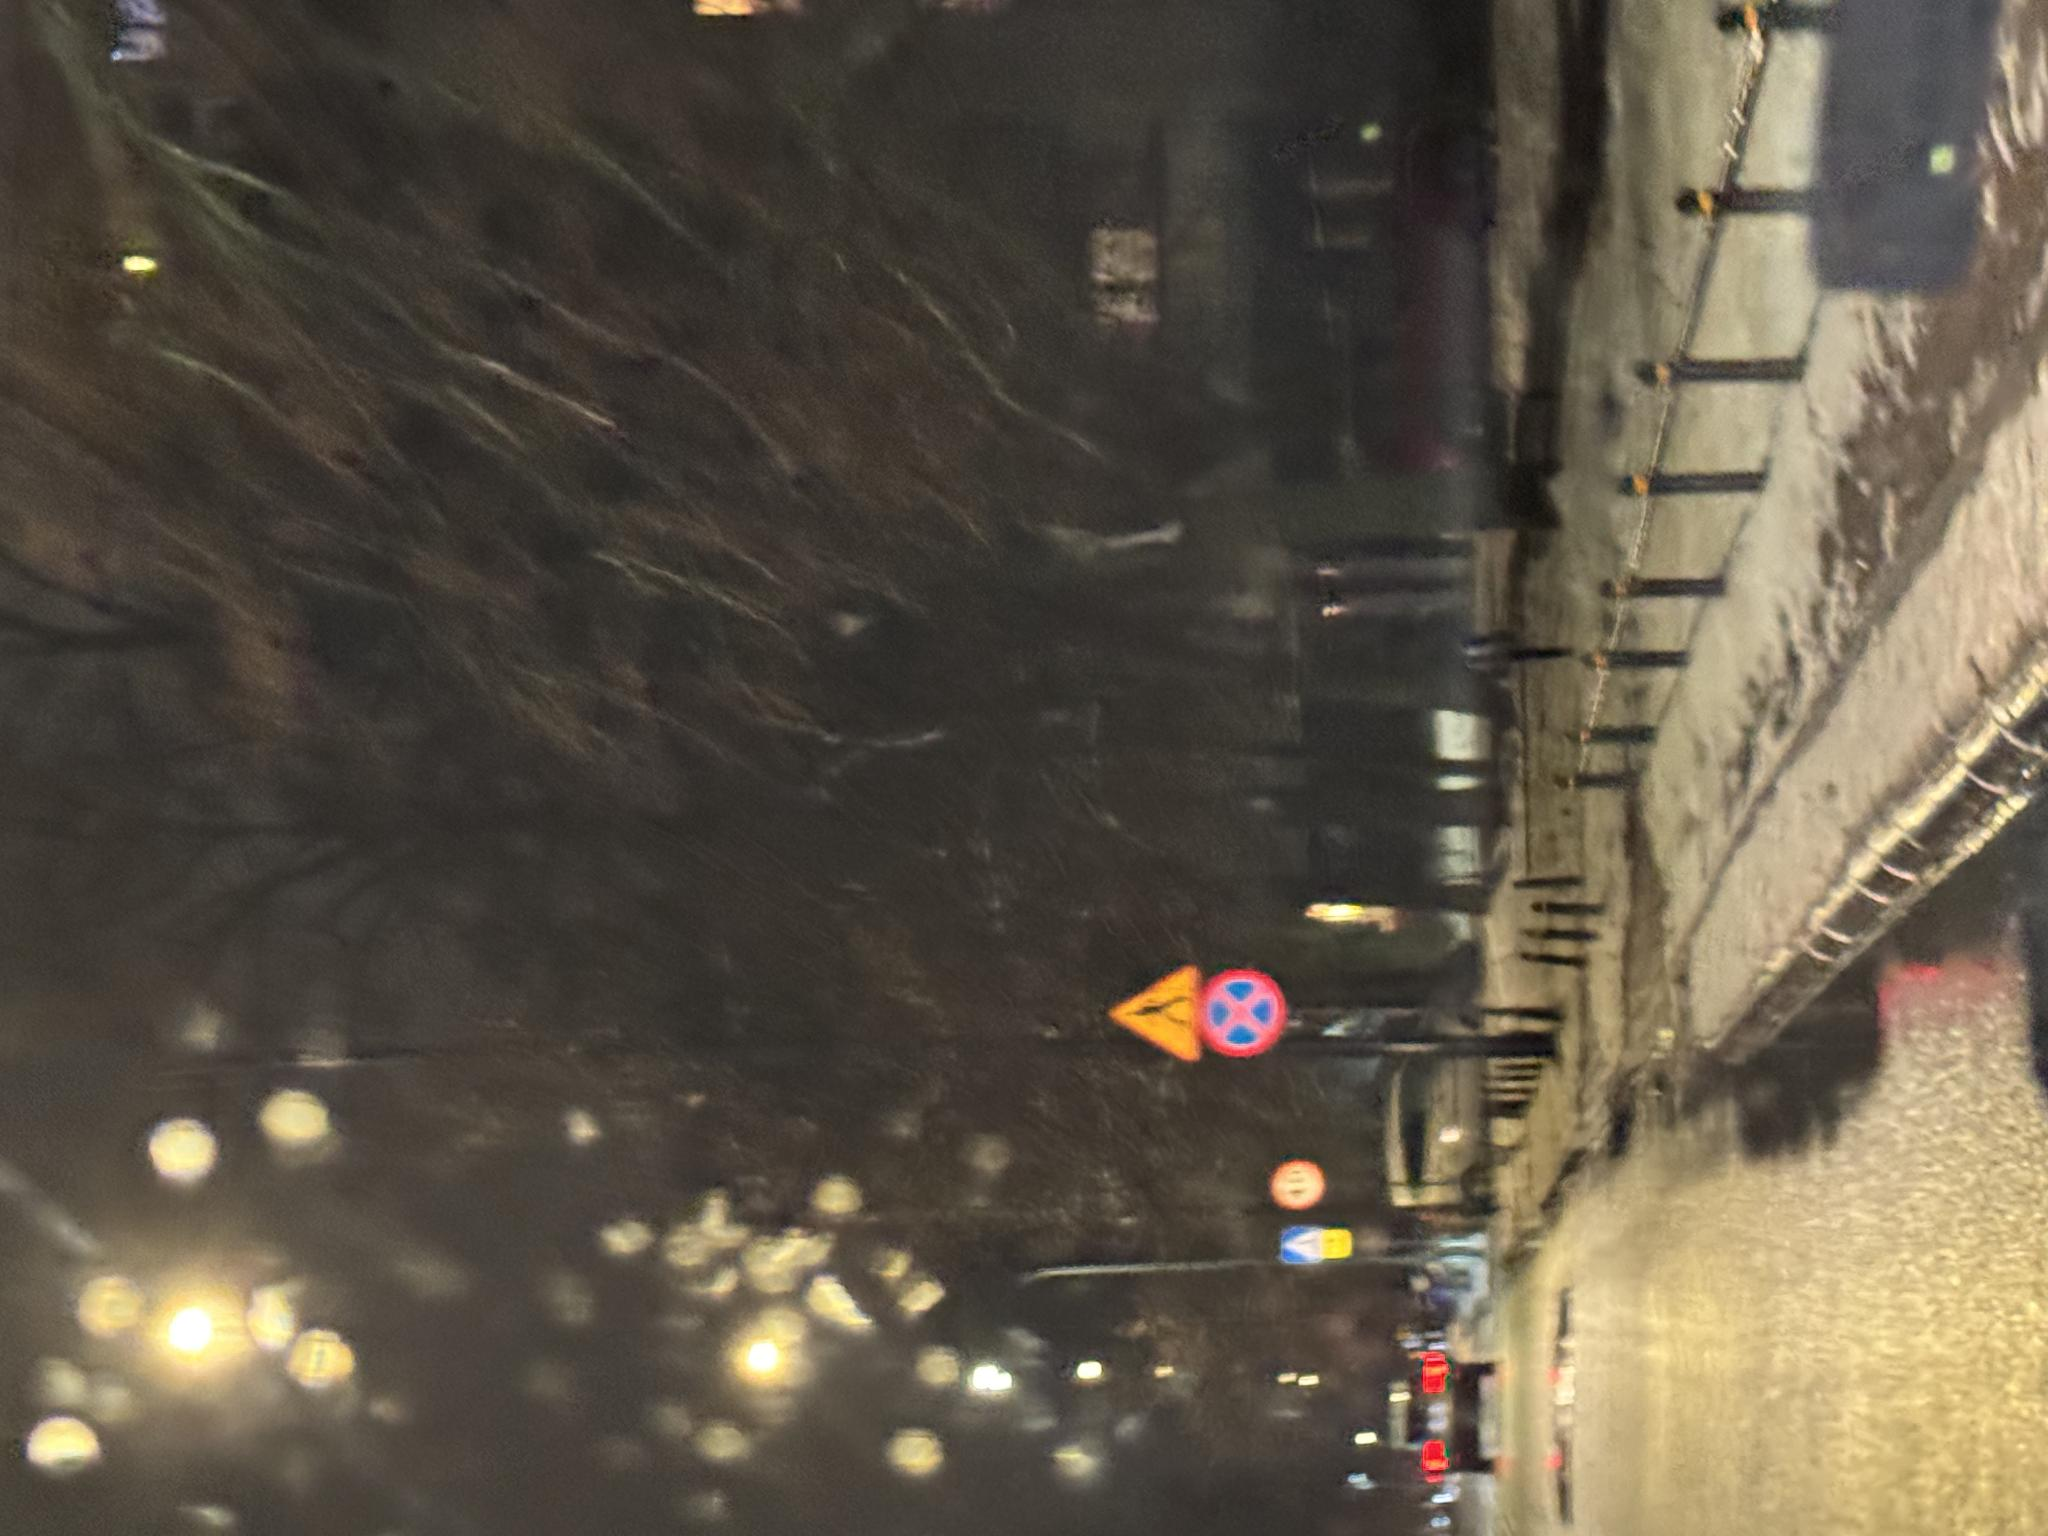information: (273, 1281, 311, 1323)
other: (276, 1323, 308, 1352)
prohibitory: (477, 1196, 569, 1288), (326, 1271, 376, 1325)
warning: (471, 1107, 572, 1200)
